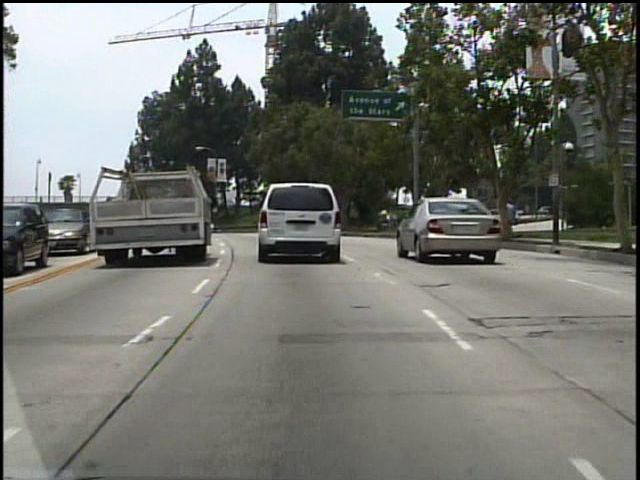person: (496, 192, 519, 240)
